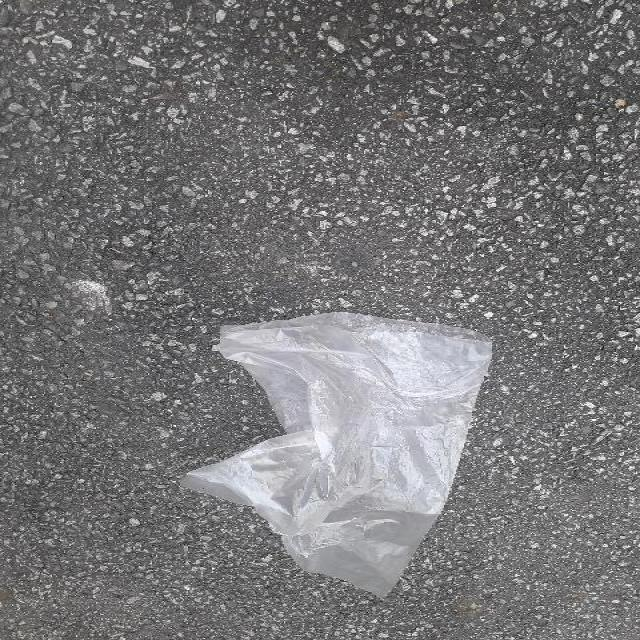plastic bag: (176, 308, 500, 602)
